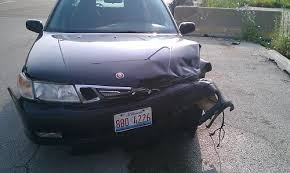Dent: (171, 58, 204, 79)
Smashed: (144, 44, 228, 137), (14, 84, 84, 142)
